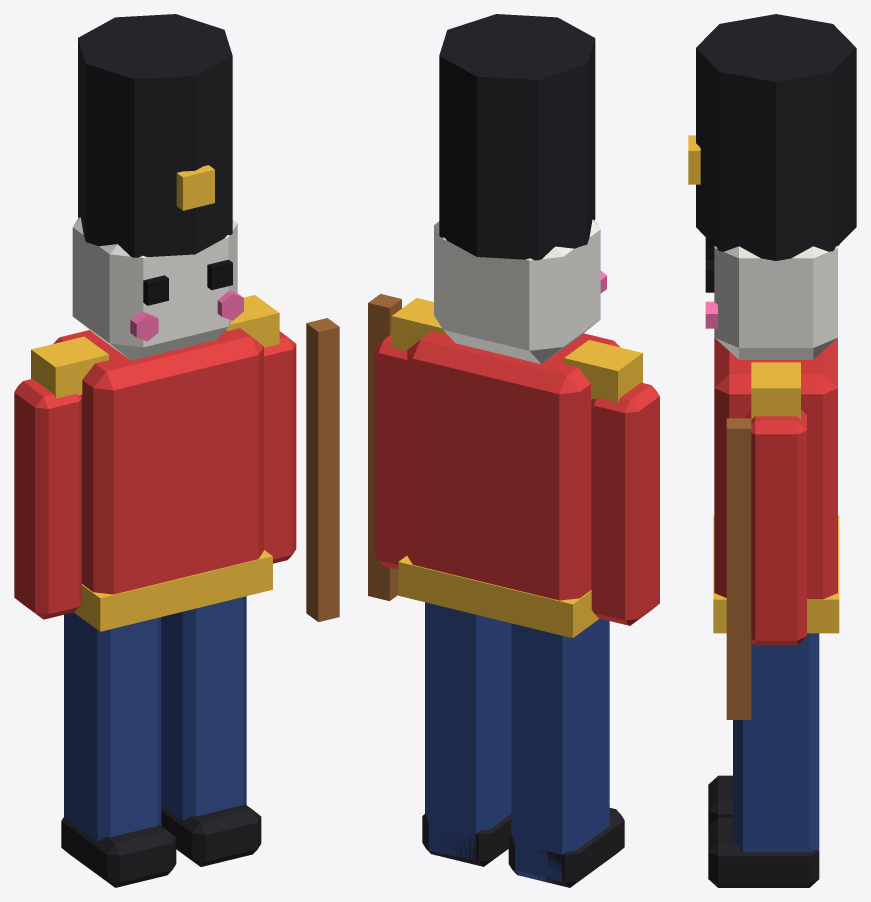
Rendered from ToySoldier.fbx.
3 renders of one model, left to right at view 1: azimuth 30°, elevation 25°; view 2: azimuth 150°, elevation 25°; view 3: azimuth 270°, elevation 25°, orthographic.
Visible parts, largest first — view 1: ToySoldier; view 2: ToySoldier; view 3: ToySoldier.
Boxes of the visible parts, <box> form: ToySoldier: <box>14,14,339,887</box>; ToySoldier: <box>368,14,659,887</box>; ToySoldier: <box>688,14,856,887</box>.
Bounding box in the file's own units: 2.72 × 7.2 × 1.36.
Materials: 1 (1 with a texture image).
